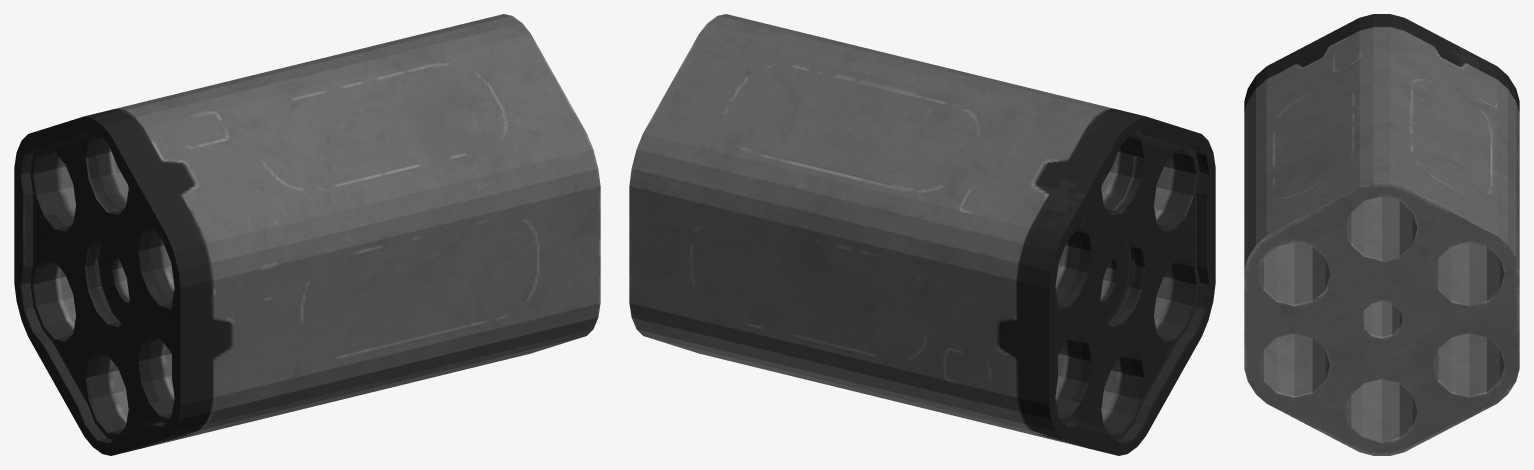
The model's file is RevolverDrum.fbx.
3 renders of one model, left to right at view 1: azimuth 30°, elevation 25°; view 2: azimuth 150°, elevation 25°; view 3: azimuth 270°, elevation 25°, orthographic. The views are drawn at different scales.
Visible parts, largest first — view 1: Drum; view 2: Drum; view 3: Drum.
Boxes of the visible parts, left/top/right/bottom form: Drum: left=14, top=14, right=600, bottom=455; Drum: left=629, top=14, right=1215, bottom=455; Drum: left=1244, top=14, right=1519, bottom=455.
Size of the model in its own units: 6.73 by 5.03 by 4.61.
Materials: 1 (1 with a texture image).
